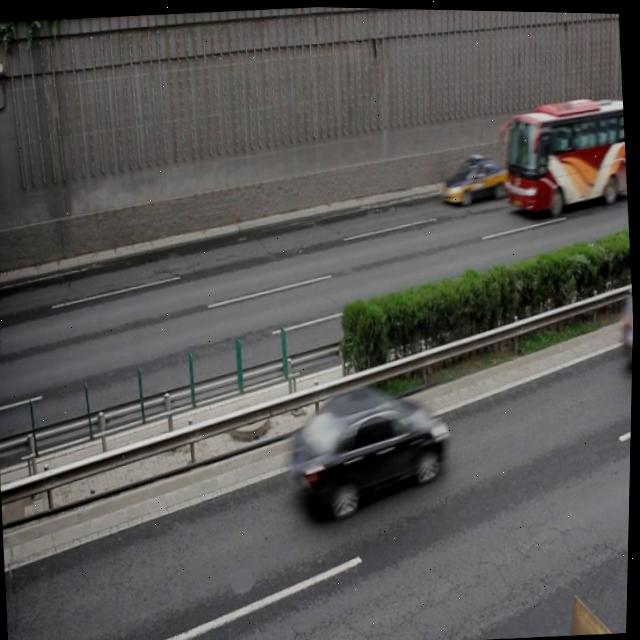car: (289, 375, 458, 515), (440, 150, 512, 207)
truck: (619, 283, 635, 361)
van: (496, 88, 631, 214)
